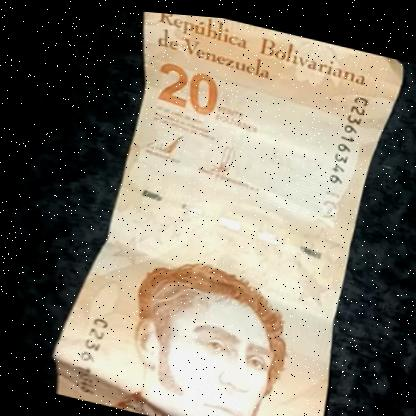twenty-front-vef: (18, 1, 414, 416)
